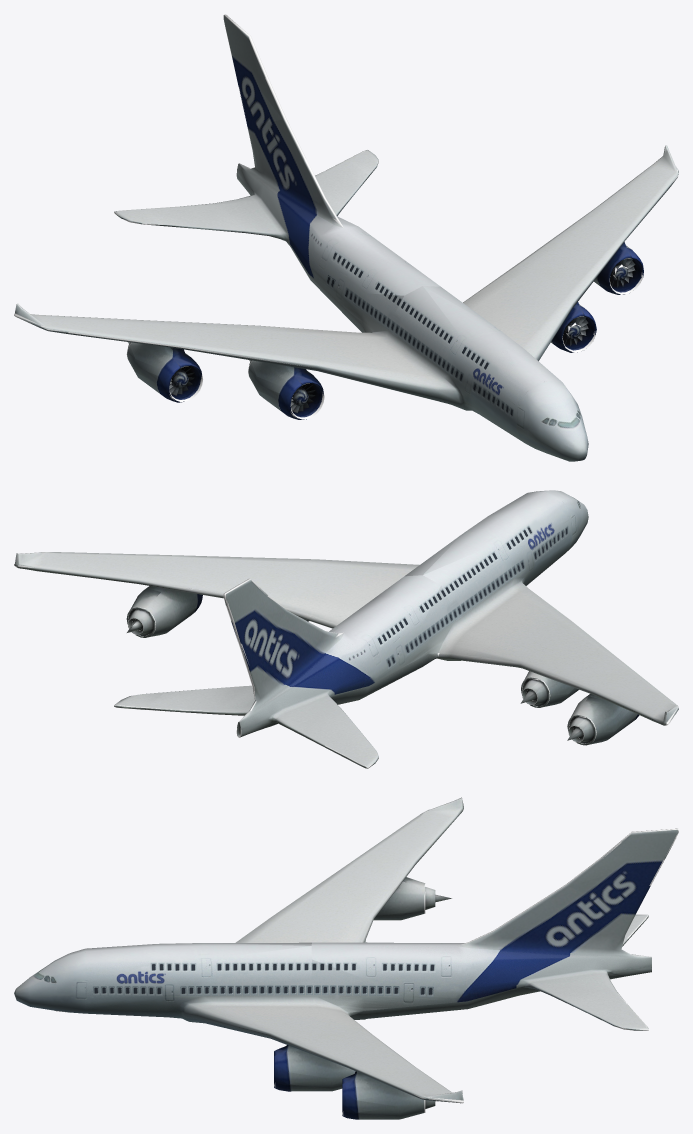
Rendered from airplane.obj.
3 renders of one model, top to bottom at view 1: azimuth 30°, elevation 25°; view 2: azimuth 150°, elevation 25°; view 3: azimuth 270°, elevation 25°, orthographic. The views are drawn at different scales.
Parts seen in each view (by area): view 1: Mesh1 airplane_0_1 Model, Mesh2 airplane_0_1 Model, Mesh37 airplane_0_1 Model, Mesh36 airplane_0_1 Model, Mesh38 airplane_0_1 Model; view 2: Mesh1 airplane_0_1 Model, Mesh36 airplane_0_1 Model, Mesh2 airplane_0_1 Model, Mesh37 airplane_0_1 Model; view 3: Mesh1 airplane_0_1 Model, Mesh36 airplane_0_1 Model, Mesh38 airplane_0_1 Model, Mesh2 airplane_0_1 Model.
Part boxes in pixels (x1,y1,x2,y2): Mesh1 airplane_0_1 Model: (14, 14, 678, 461); Mesh2 airplane_0_1 Model: (126, 342, 202, 402); Mesh37 airplane_0_1 Model: (248, 360, 324, 419); Mesh36 airplane_0_1 Model: (594, 242, 643, 294); Mesh38 airplane_0_1 Model: (551, 302, 596, 352); Mesh1 airplane_0_1 Model: (14, 490, 678, 768); Mesh36 airplane_0_1 Model: (126, 586, 202, 637); Mesh2 airplane_0_1 Model: (567, 694, 639, 745); Mesh37 airplane_0_1 Model: (520, 671, 578, 707); Mesh1 airplane_0_1 Model: (14, 797, 678, 1103); Mesh36 airplane_0_1 Model: (342, 1071, 435, 1119); Mesh38 airplane_0_1 Model: (274, 1045, 355, 1091); Mesh2 airplane_0_1 Model: (373, 877, 451, 920).
Size of the model in its own units: 2363 by 741 by 2247.
Materials: 2 (1 with a texture image).
